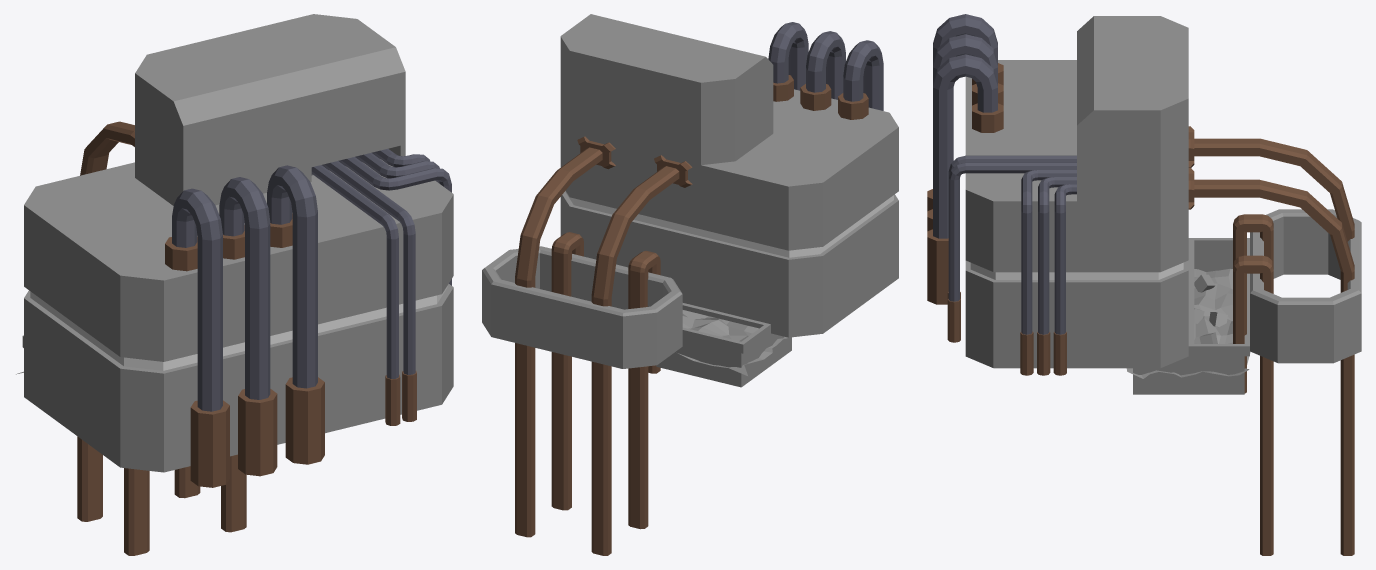
Rendered from madenlv3.fbx.
The picture shows the model from 3 angles, left to right: view 1: azimuth 30°, elevation 25°; view 2: azimuth 150°, elevation 25°; view 3: azimuth 270°, elevation 25°; orthographic projection. The views are drawn at different scales.
Visible parts, largest first — view 1: Cube.014; view 2: Cube.014; view 3: Cube.014.
Boxes of the visible parts, <box> form: Cube.014: <box>16,14,453,555</box>; Cube.014: <box>482,14,898,555</box>; Cube.014: <box>927,14,1361,555</box>.
Bounding box in the file's own units: 632 × 925 × 778.
